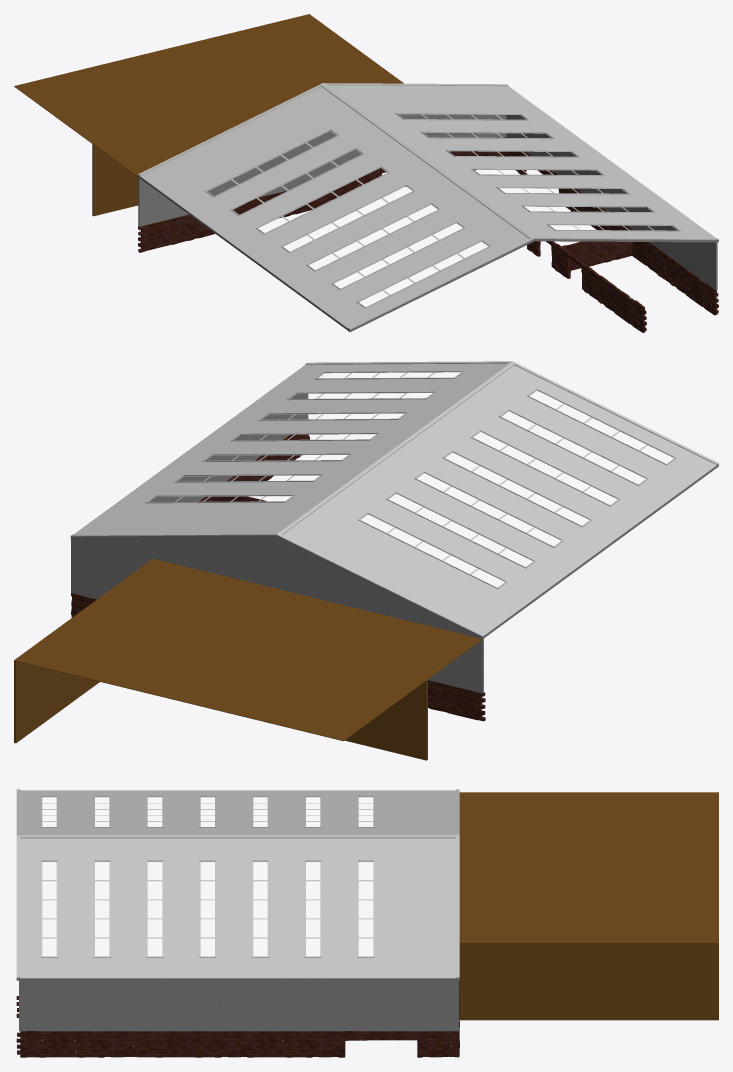
The model's file is Upper_Garage (1).fbx.
The picture shows the model from 3 angles, top to bottom: view 1: azimuth 30°, elevation 25°; view 2: azimuth 150°, elevation 25°; view 3: azimuth 270°, elevation 25°; orthographic projection. The views are drawn at different scales.
Visible parts, largest first — view 1: Roof-1, Wall_2.008, Cube.421, Cube.122; view 2: Roof-1, Wall_2.008, Cube.122, Cube.421; view 3: Roof-1, Wall_2.008, Cube.421.
Part boxes in pixels (x1,y1,x2,y2): Roof-1: (138,83,718,332); Wall_2.008: (14,14,403,216); Cube.421: (505,137,718,332); Cube.122: (138,137,505,252); Roof-1: (70,361,718,693); Wall_2.008: (14,558,483,760); Cube.122: (71,594,485,721); Cube.421: (71,434,309,615); Roof-1: (16,789,459,1031); Wall_2.008: (459,792,718,1020); Cube.421: (16,993,459,1057).
Bounding box in the file's own units: 2520 × 801 × 3981.
